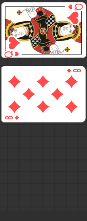10D: (66, 67, 83, 74)
